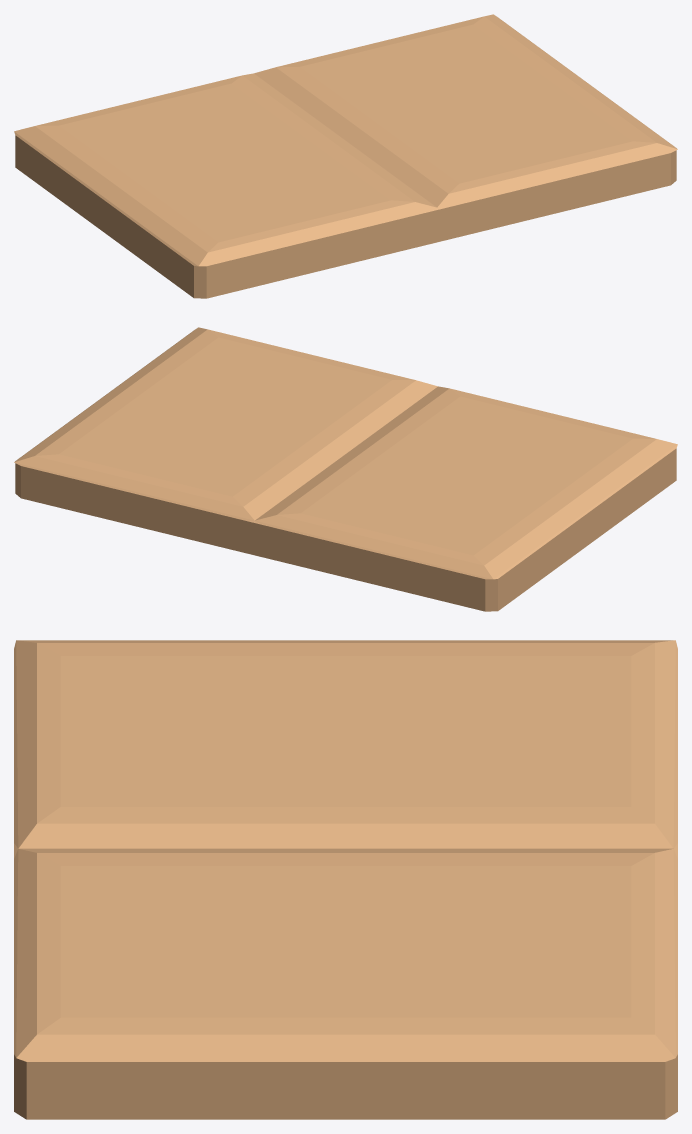
The model's file is WoodFloor.fbx.
3 views of the same model, one above another, from view 1: azimuth 30°, elevation 25°; view 2: azimuth 150°, elevation 25°; view 3: azimuth 270°, elevation 25° (orthographic). The views are drawn at different scales.
Visible parts, largest first — view 1: WoodGroundTile; view 2: WoodGroundTile; view 3: WoodGroundTile.
Part boxes in pixels (x1,y1,x2,y2): WoodGroundTile: [14, 14, 677, 298]; WoodGroundTile: [14, 327, 677, 611]; WoodGroundTile: [14, 640, 677, 1119].
Bounding box in the file's own units: 600 × 48.92 × 400.
